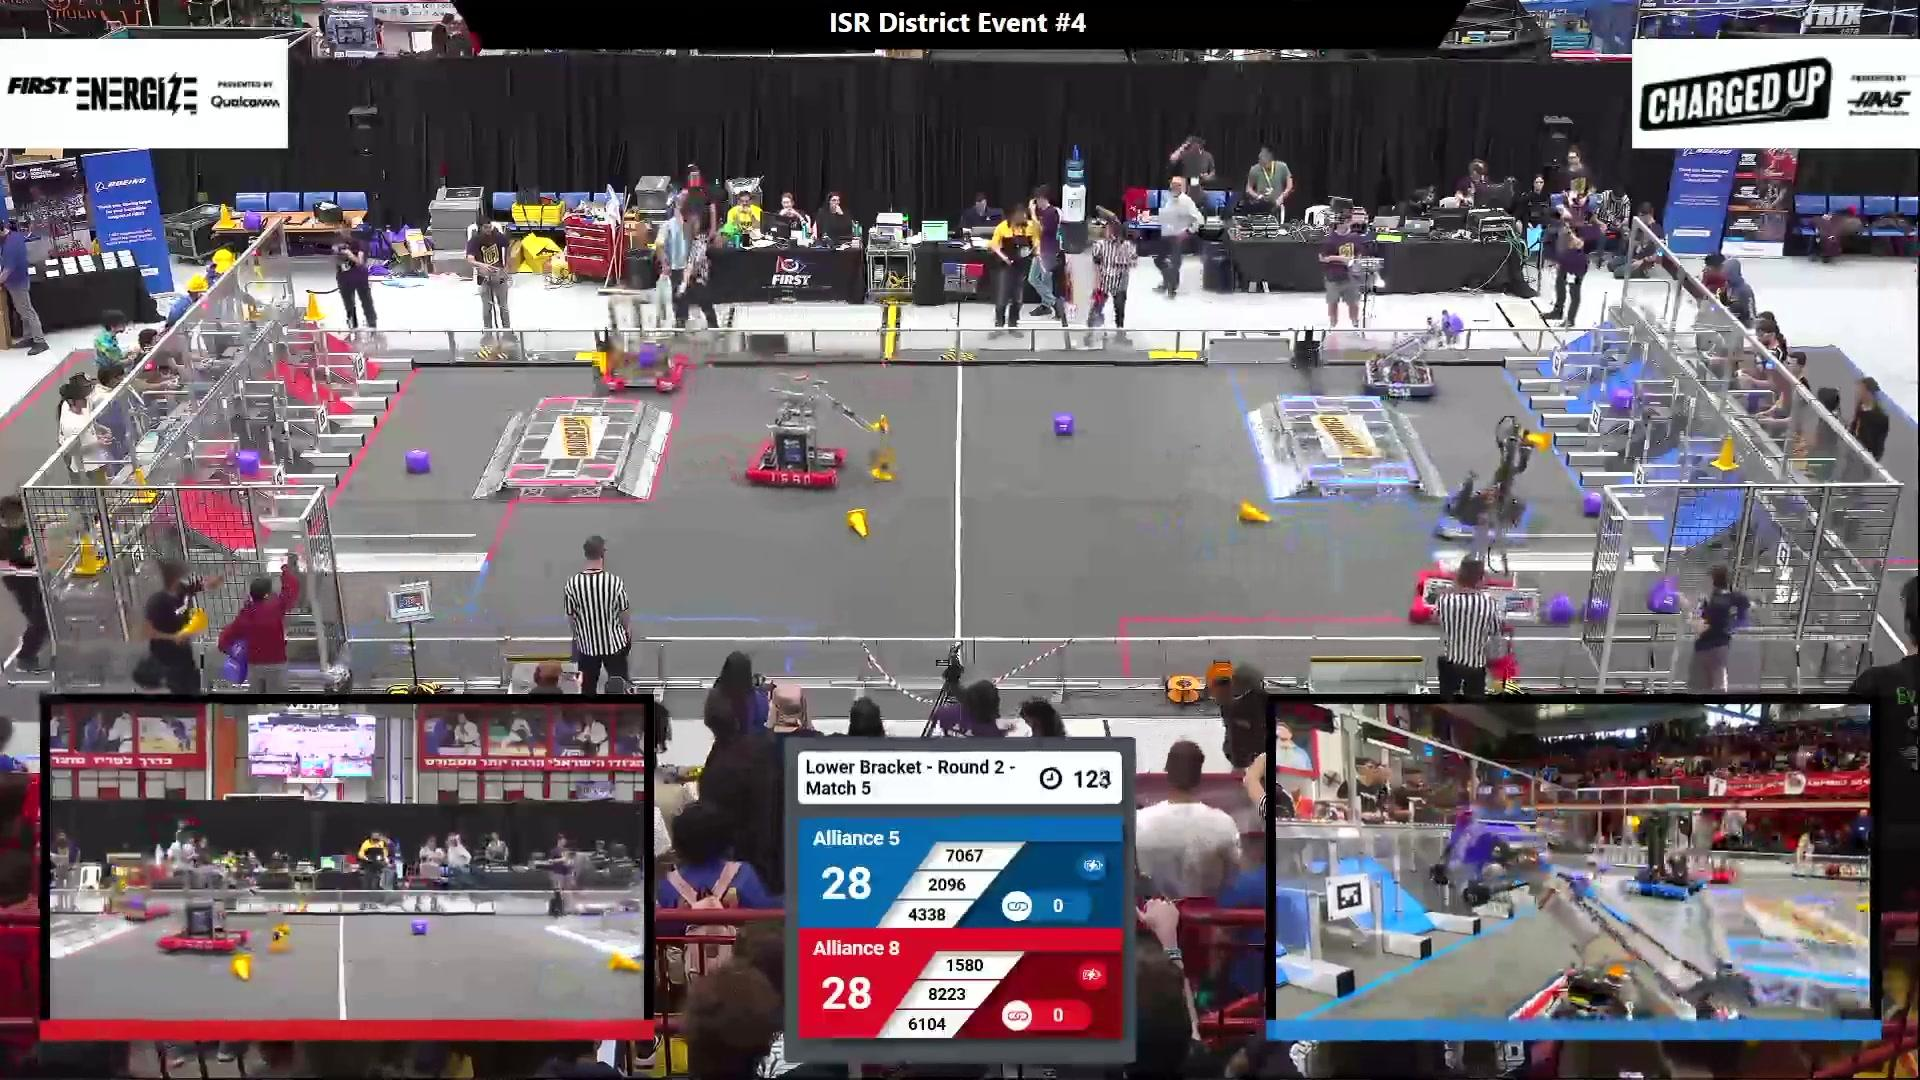robot: (1432, 802, 1867, 1017), (224, 521, 385, 680), (745, 373, 889, 491), (1435, 413, 1555, 546), (1406, 517, 1516, 633), (157, 864, 289, 956), (591, 287, 690, 394), (1360, 310, 1461, 401), (1625, 807, 1706, 902), (102, 853, 174, 924), (1668, 812, 1738, 886)
